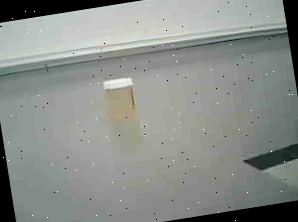Bottle B: (92, 70, 150, 128)
